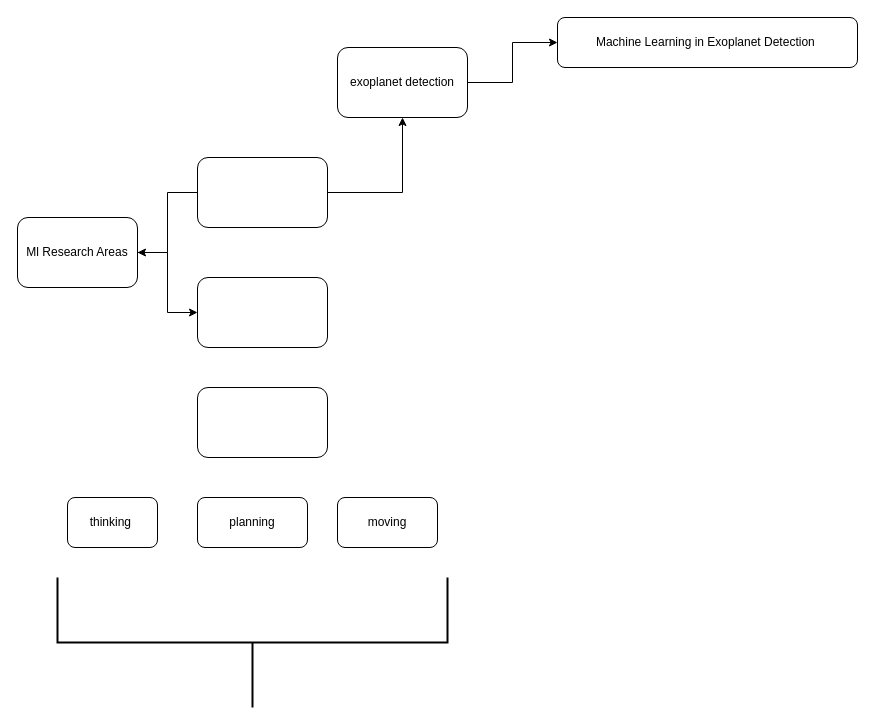
This 875x726 diagram has some shape labels left out. The shapes that lost their labels are listed below. From the top down, each one's box as (x1, y1, x2, y2) in pixels, then its label:
(196, 156, 328, 228): space
(196, 276, 328, 348): autonomous driving
(196, 386, 328, 458): Robots
